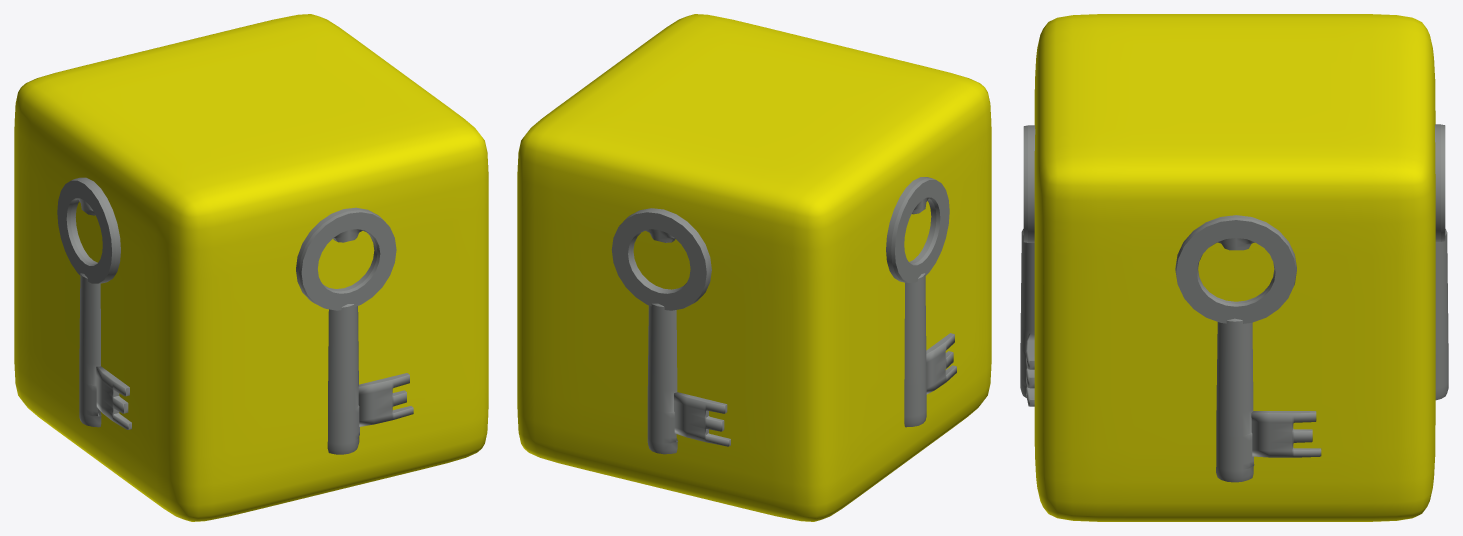
Rendered from Key_Box.fbx.
3 views of the same model, side by side, from view 1: azimuth 30°, elevation 25°; view 2: azimuth 150°, elevation 25°; view 3: azimuth 270°, elevation 25° (orthographic). The views are drawn at different scales.
Visible parts, largest first — view 1: Cube; view 2: Cube; view 3: Cube.
Part boxes in pixels (left/top/right/bottom): Cube: left=14, top=14, right=488, bottom=521; Cube: left=517, top=14, right=991, bottom=521; Cube: left=1020, top=14, right=1448, bottom=521.
Size of the model in its own units: 1.07 by 1 by 1.07.
